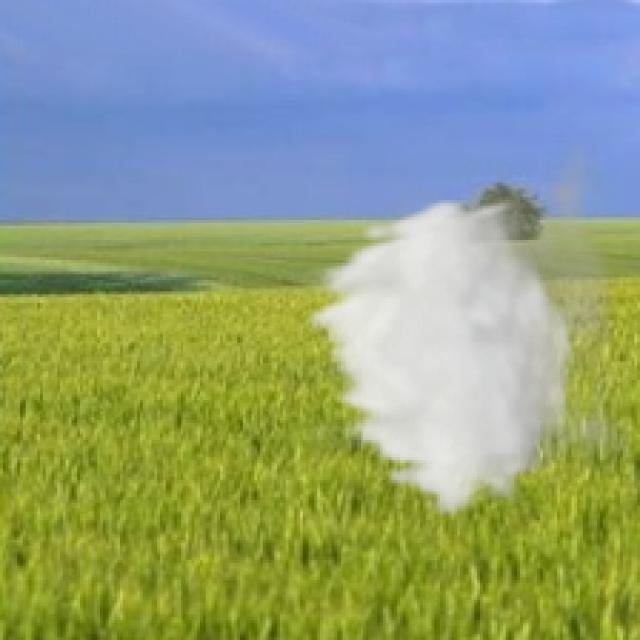Smoke: (297, 128, 637, 523)
